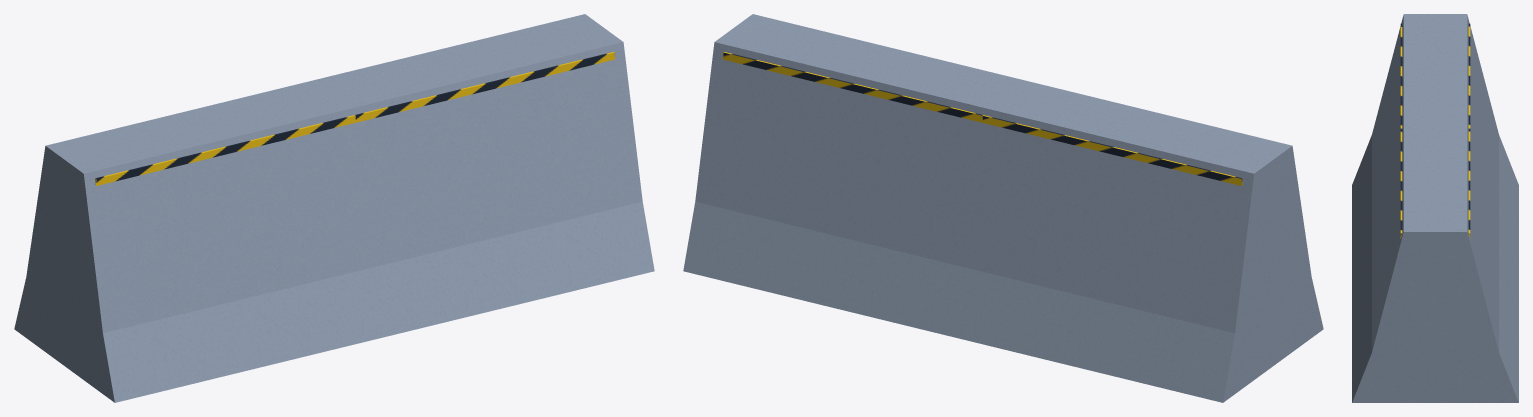
The model's file is barrier_concrete_jersey.glb.
3 renders of one model, left to right at view 1: azimuth 30°, elevation 25°; view 2: azimuth 150°, elevation 25°; view 3: azimuth 270°, elevation 25°, orthographic. The views are drawn at different scales.
Parts seen in each view (by area): view 1: barrier_concrete_jersey; view 2: barrier_concrete_jersey; view 3: barrier_concrete_jersey.
Part boxes in pixels (x1=…): barrier_concrete_jersey: x1=14, y1=14, x2=654, y2=402; barrier_concrete_jersey: x1=683, y1=14, x2=1323, y2=402; barrier_concrete_jersey: x1=1352, y1=14, x2=1518, y2=402.
Bounding box in the file's own units: 2.6 × 0.95 × 0.84.
Materials: 2 (2 with a texture image).
